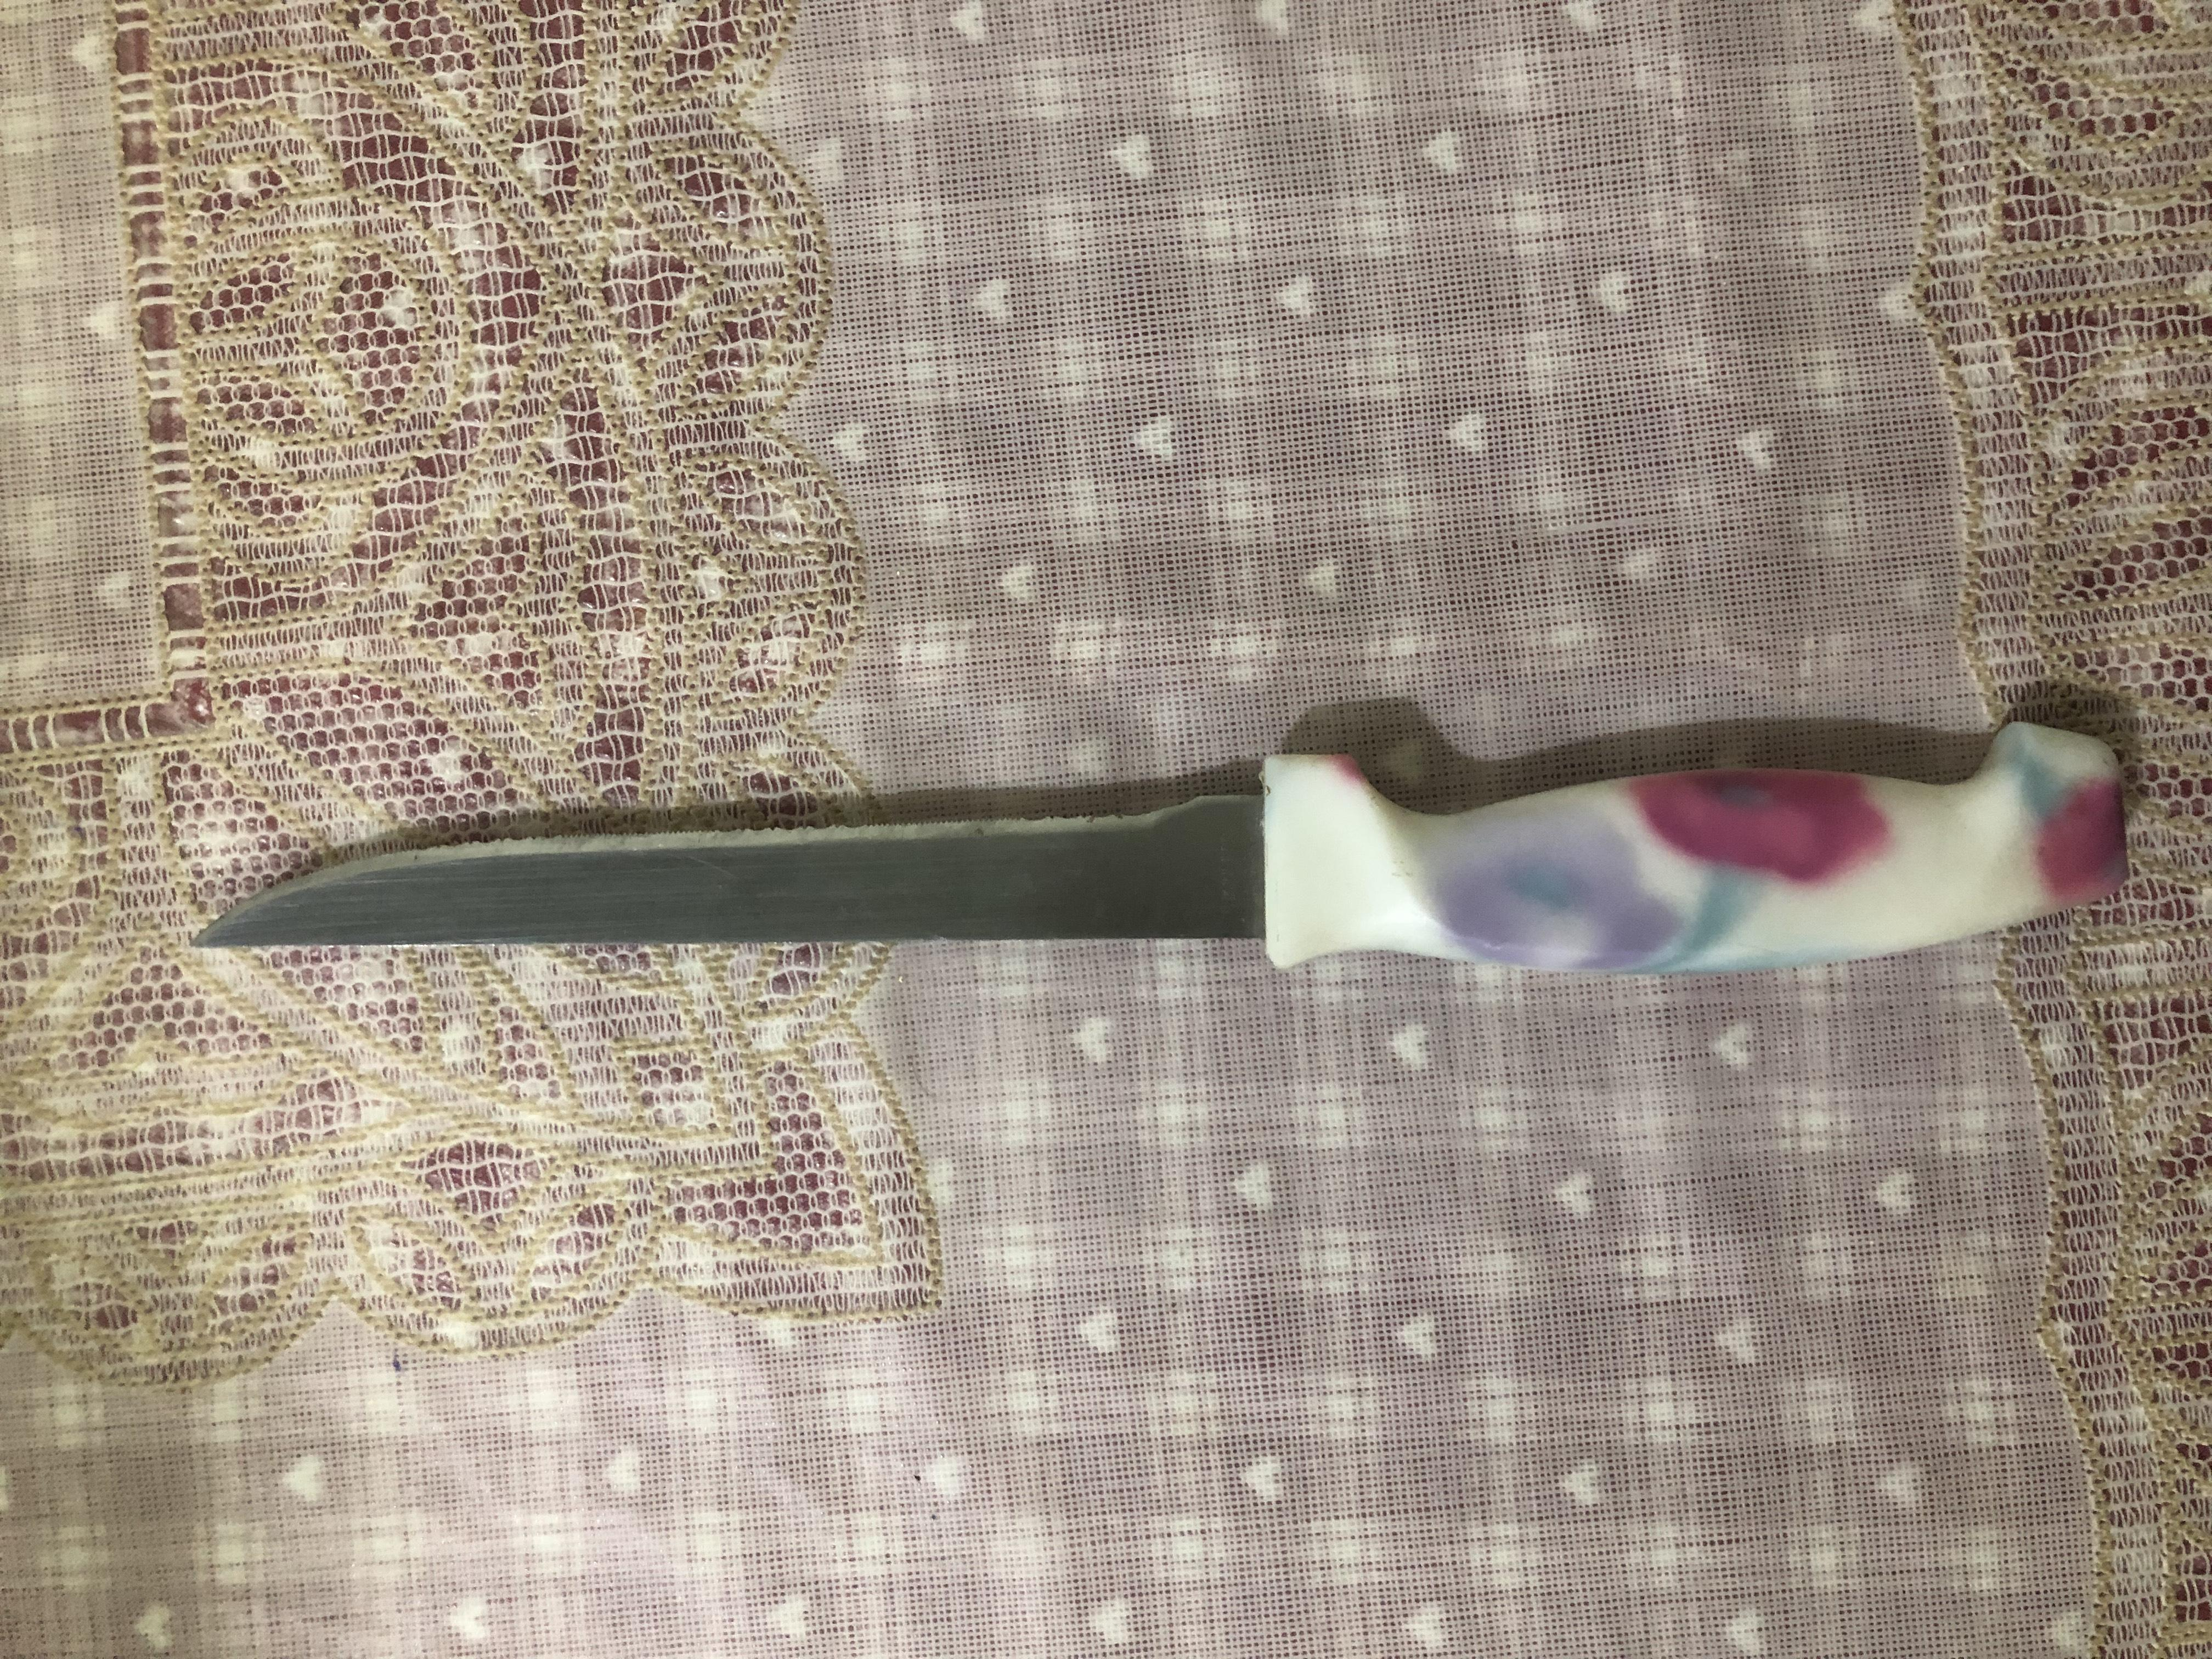weapon: (906, 145, 1258, 1600)
